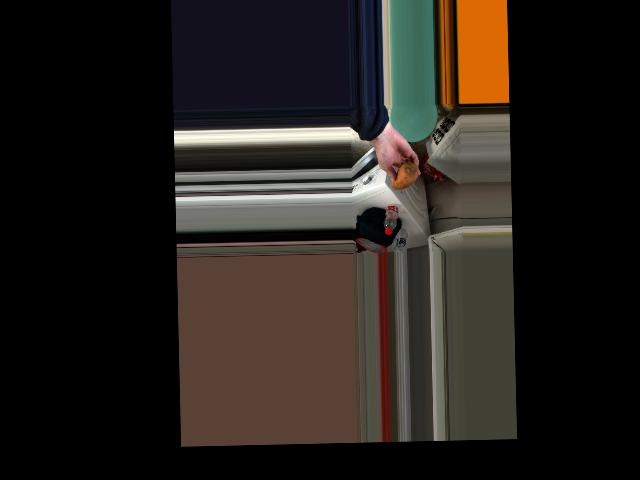sweet_potato: (387, 158, 415, 190)
